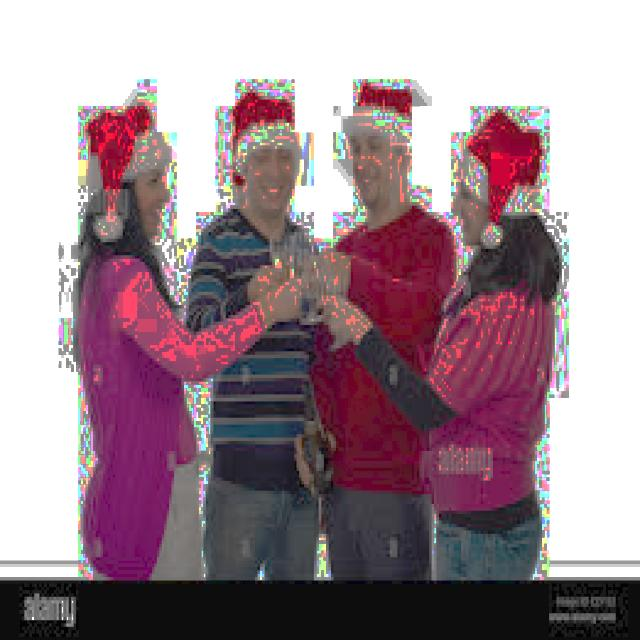TOPI: (61, 90, 169, 238), (454, 100, 544, 248), (223, 86, 299, 199), (343, 76, 417, 159)
